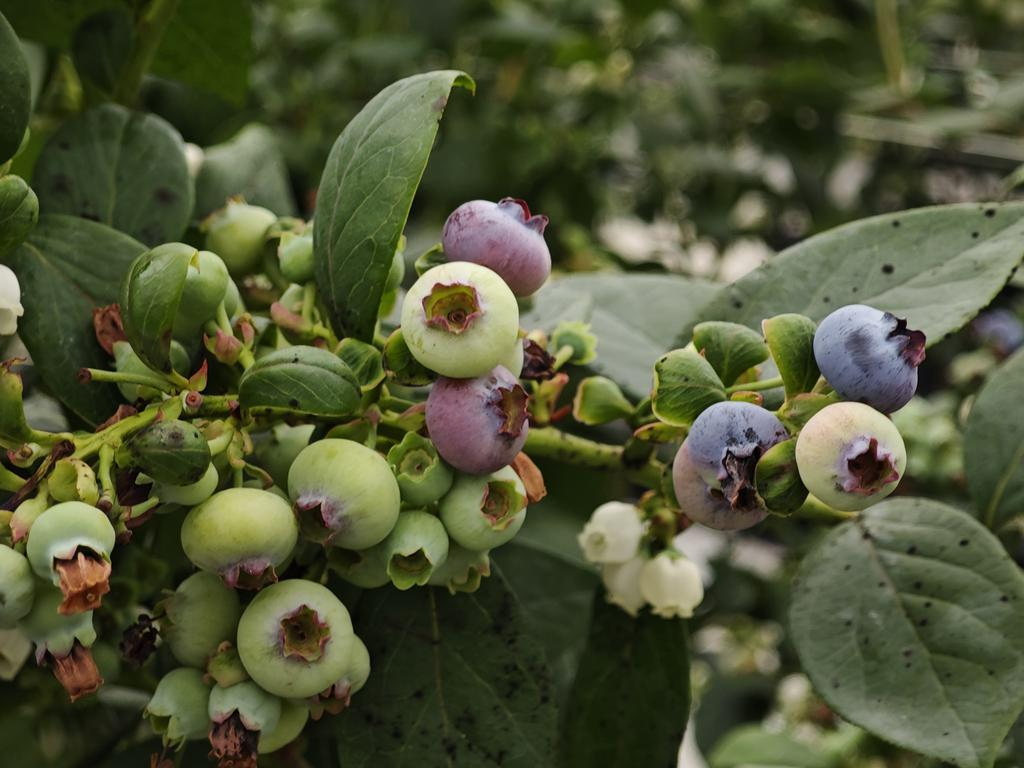RipeBlueBerry: (810, 301, 921, 415), (686, 397, 790, 495)
Semi-RipeBlueBerry: (422, 365, 533, 475), (442, 195, 555, 300)
UnripeBlueBerry: (234, 577, 357, 702), (399, 259, 520, 379), (283, 435, 402, 554), (793, 398, 908, 515)
